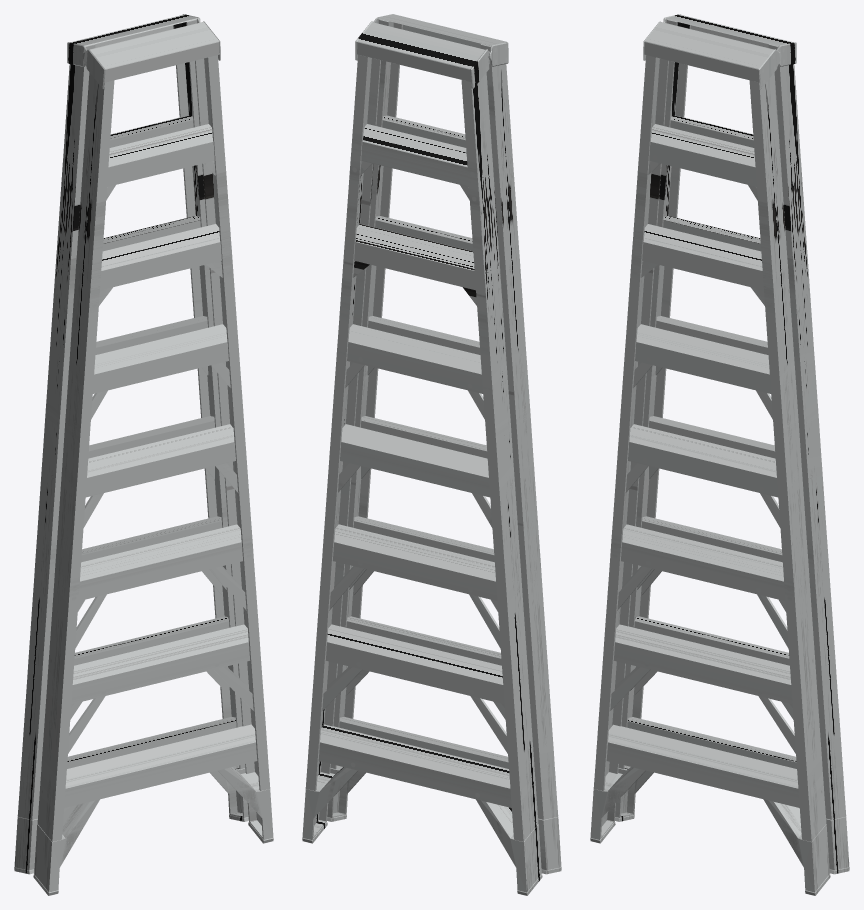
Rendered from stepledder.fbx.
3 renders of one model, left to right at view 1: azimuth 30°, elevation 25°; view 2: azimuth 150°, elevation 25°; view 3: azimuth 330°, elevation 25°, orthographic.
Size of the model in its own units: 0.953 by 3.33 by 0.273.
Materials: 1 (1 with a texture image).
